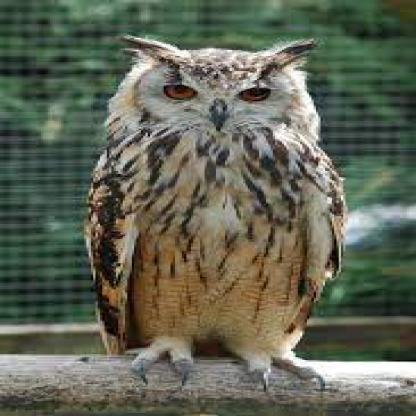owl: (74, 11, 415, 415)
